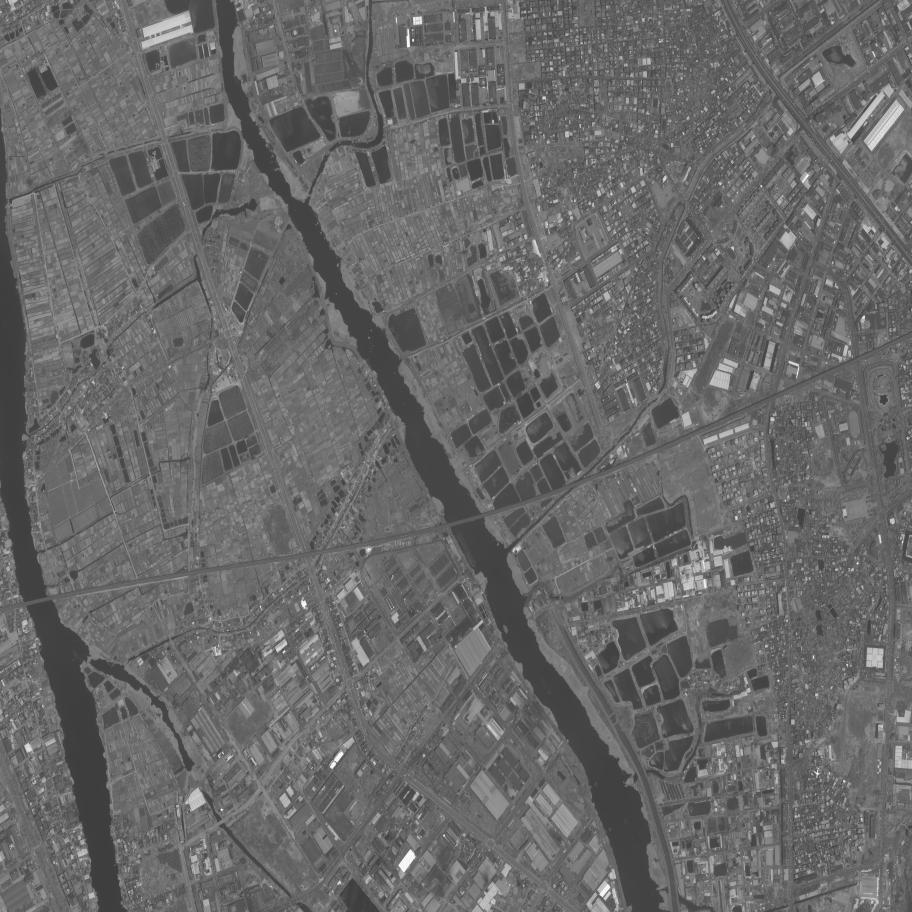plane: (812, 766, 823, 780)
